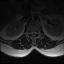CCS_normal: (32, 29, 34, 37)
LFS_normal: (36, 30, 38, 35)
LLS_normal: (34, 29, 36, 36)
RFS_normal: (28, 30, 30, 35)
RLS_normal: (30, 29, 32, 36)
